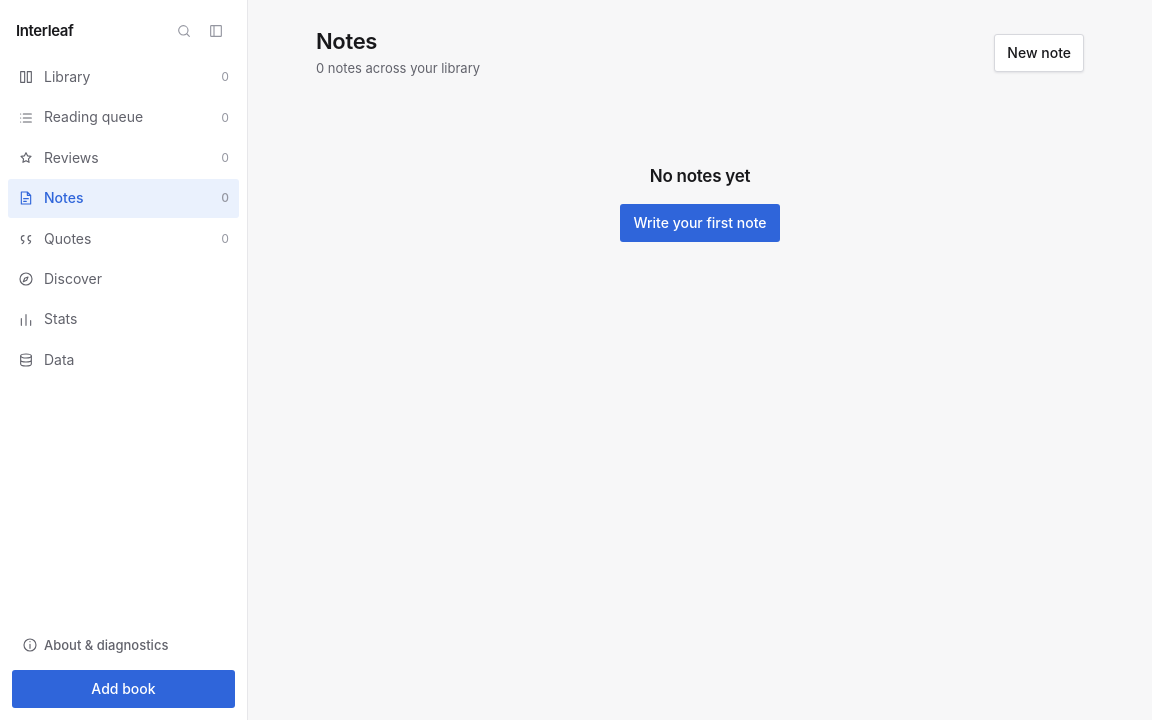
Test case: Notes index › does not create an empty note from the full-page draft
The image size is (1152, 720).
Click the button "Write your first note". click: (700, 223)
box: [620,204,780,242]
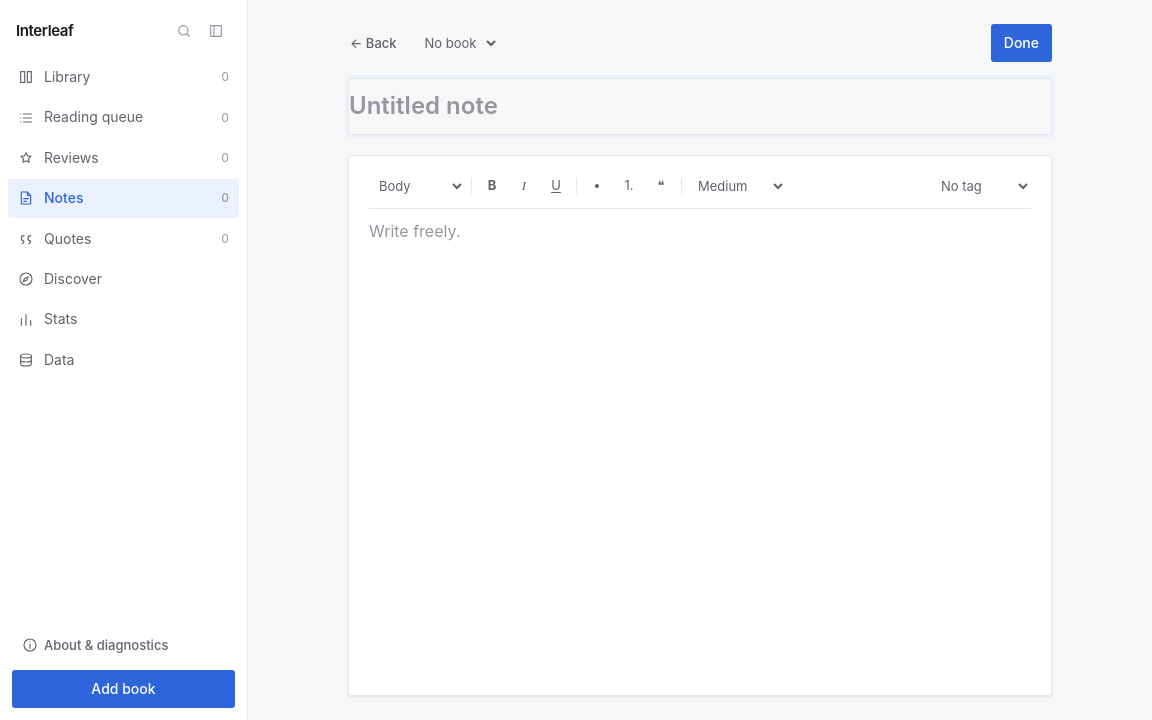
Click the button "Done". click: (1021, 43)
box: [991,24,1052,62]
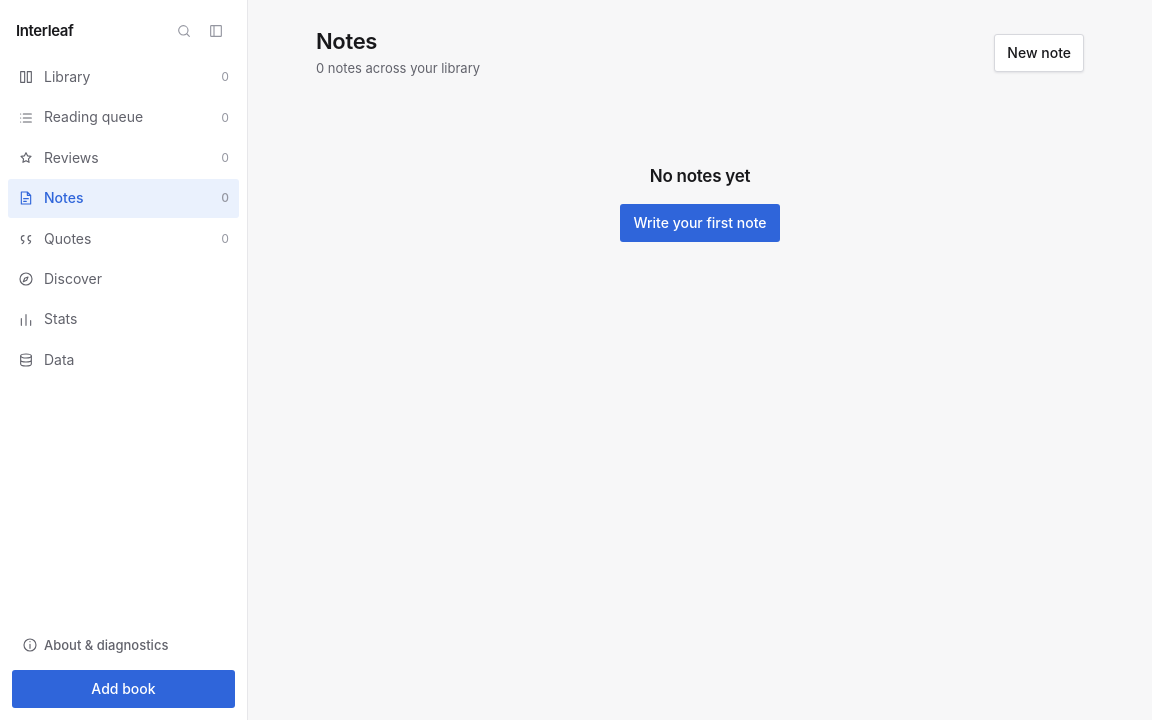
Expected: the heading "Notes" is shown, [316,28,377,54]
